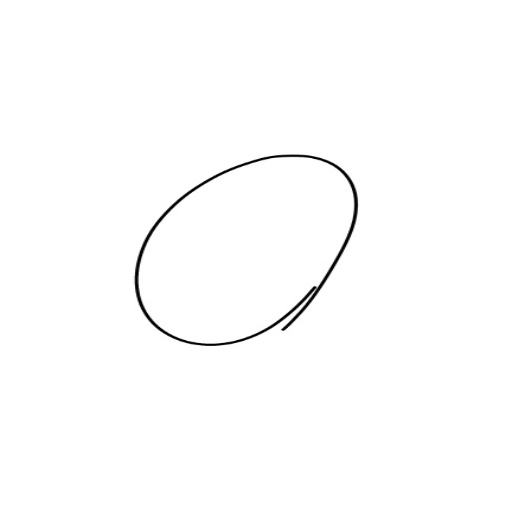circle: (129, 150, 364, 348)
